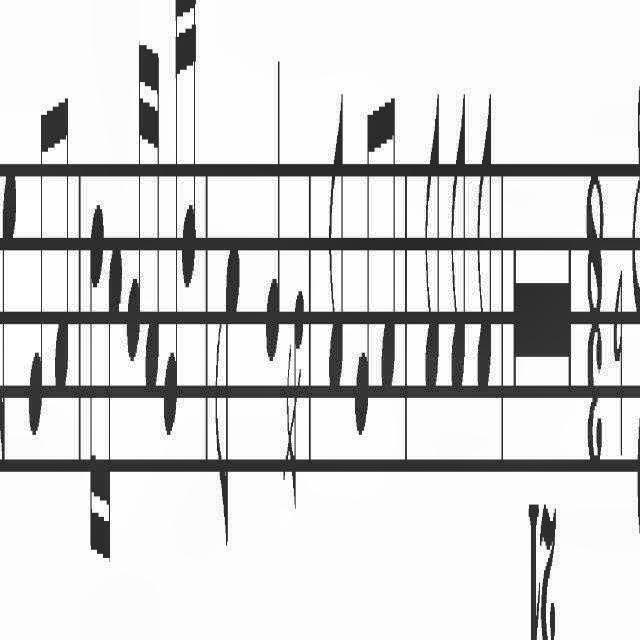Bass-clef: (632, 53, 640, 574)
Bemol: (612, 264, 624, 464)
Eighth-note: (215, 235, 241, 549), (27, 109, 47, 439), (355, 87, 373, 437), (0, 160, 18, 468), (326, 90, 344, 396), (423, 92, 441, 394), (54, 90, 70, 402), (476, 90, 492, 398), (382, 71, 396, 399), (451, 78, 465, 396)
Quarter-note: (263, 53, 281, 374)
Sixteenth-note: (164, 0, 180, 452), (88, 191, 105, 573), (146, 29, 162, 408), (127, 18, 143, 370), (106, 236, 122, 580), (182, 0, 198, 296)
